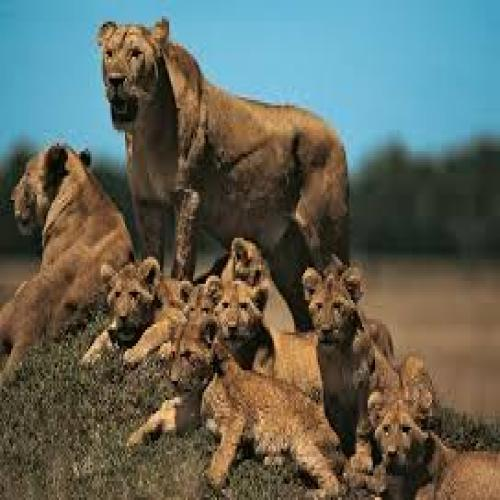lion-endangered: (94, 16, 350, 291), (0, 139, 134, 396), (161, 316, 322, 500), (299, 262, 441, 466), (356, 385, 498, 500), (100, 260, 192, 342), (204, 273, 268, 360), (212, 233, 269, 294)
